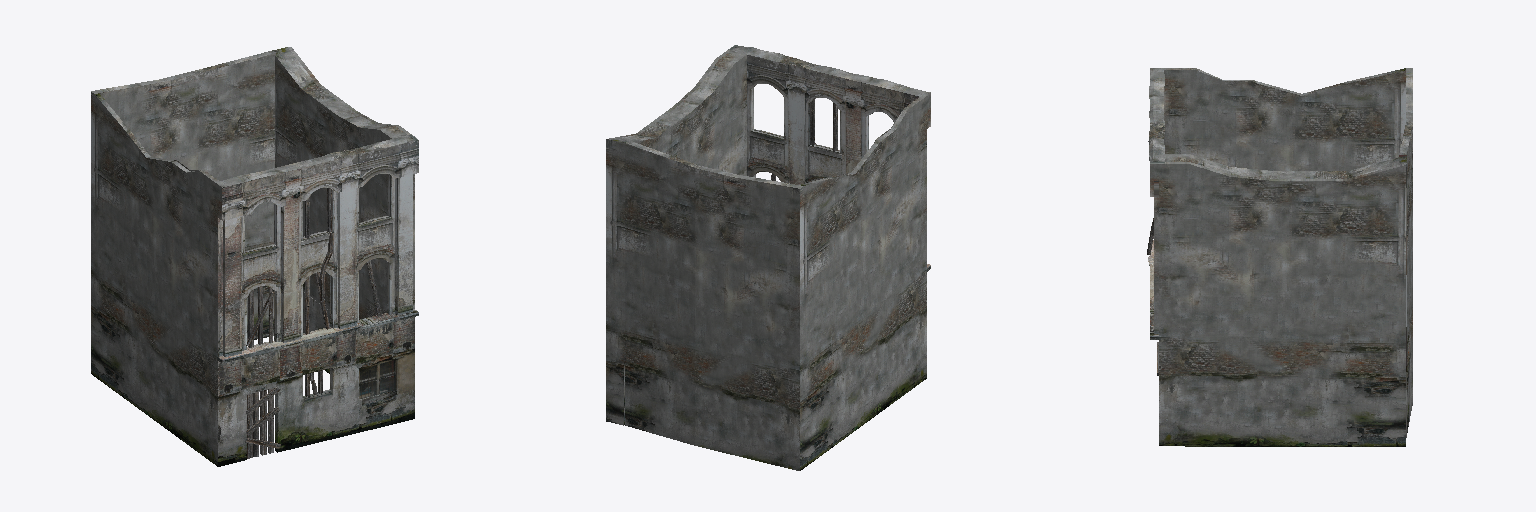
3 views of the same model, side by side, from view 1: azimuth 30°, elevation 25°; view 2: azimuth 150°, elevation 25°; view 3: azimuth 270°, elevation 25° (orthographic).
Parts seen in each view (by area): view 1: worn_torn4; view 2: worn_torn4; view 3: worn_torn4.
Part boxes in pixels (x1,y1,x2,y2): worn_torn4: (91, 47, 418, 466); worn_torn4: (606, 45, 930, 470); worn_torn4: (1147, 68, 1412, 446).
Size of the model in its own units: 261 by 363 by 306.
1 materials, 1 textured.